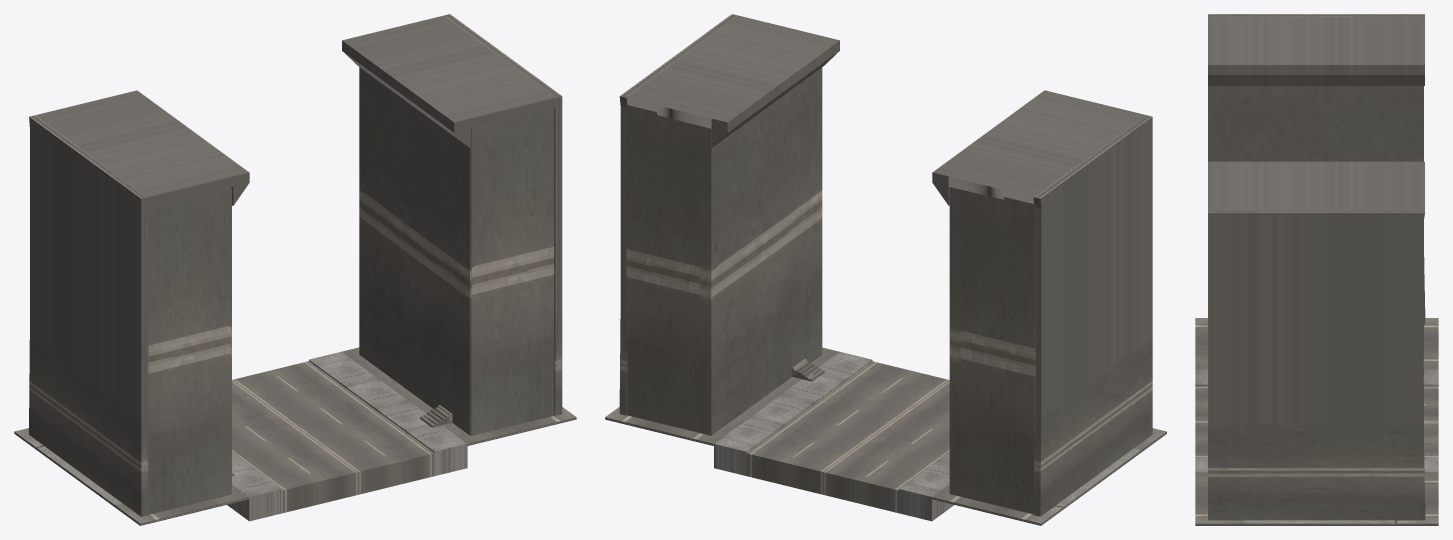
The model's file is street_and_apt.glb.
The picture shows the model from 3 angles, left to right: view 1: azimuth 30°, elevation 25°; view 2: azimuth 150°, elevation 25°; view 3: azimuth 270°, elevation 25°; orthographic projection. The views are drawn at different scales.
Visible parts, largest first — view 1: Apt_Base_R, Apt_Base_L, street; view 2: Apt_Base_R, Apt_Base_L, street; view 3: Apt_Base_L, Apt_Base_R, street.
Part boxes in pixels (<box>): Apt_Base_R: <box>14,90,249,525</box>; Apt_Base_L: <box>342,14,576,445</box>; street: <box>227,351,467,521</box>; Apt_Base_R: <box>932,90,1166,525</box>; Apt_Base_L: <box>605,14,839,445</box>; street: <box>714,352,953,521</box>; Apt_Base_L: <box>1195,161,1438,525</box>; Apt_Base_R: <box>1195,14,1438,369</box>; street: <box>1195,369,1438,472</box>.
Size of the model in its own units: 40 by 29.99 by 20.
1 material, 1 textured.
